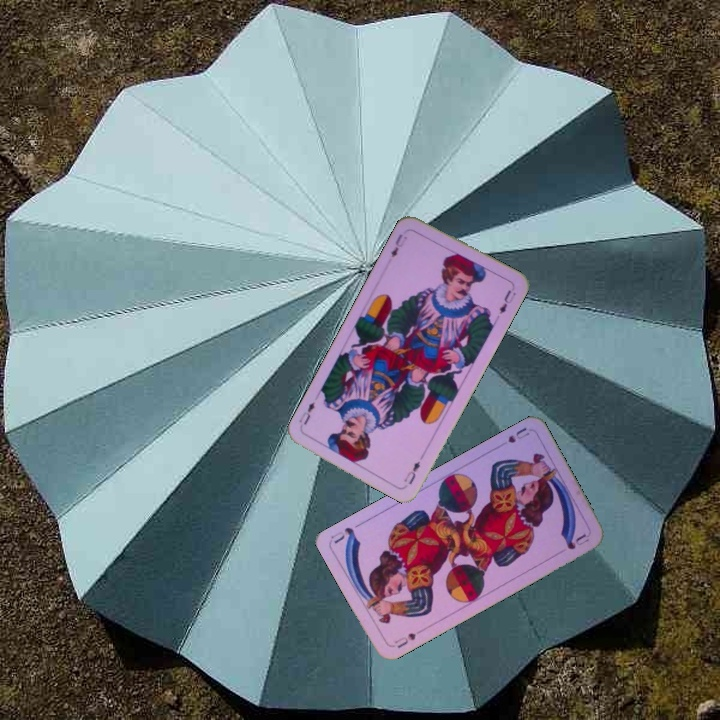EU: (399, 457, 423, 487), (387, 230, 410, 260)
SU: (494, 423, 532, 450), (388, 629, 419, 651)
